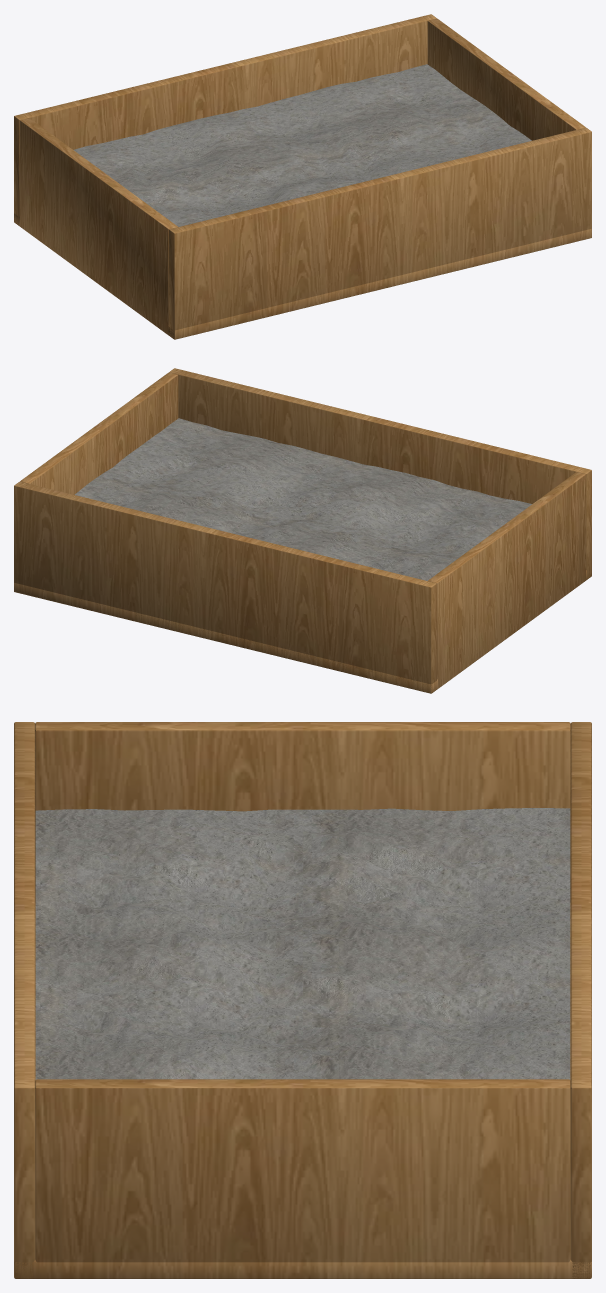
The model's file is REV-ARG-001.glb.
The picture shows the model from 3 angles, top to bottom: view 1: azimuth 30°, elevation 25°; view 2: azimuth 150°, elevation 25°; view 3: azimuth 270°, elevation 25°; orthographic projection. The views are drawn at different scales.
Visible parts, largest first — view 1: REV-ARG-001_lado-1, REV-ARG-001_argamassa, REV-ARG-001_lado1, REV-ARG-001_cab-1, REV-ARG-001_cab1, REV-ARG-001_fundo; view 2: REV-ARG-001_lado1, REV-ARG-001_argamassa, REV-ARG-001_lado-1, REV-ARG-001_cab-1, REV-ARG-001_cab1, REV-ARG-001_fundo; view 3: REV-ARG-001_argamassa, REV-ARG-001_cab1, REV-ARG-001_cab-1, REV-ARG-001_lado-1, REV-ARG-001_lado1, REV-ARG-001_fundo.
Boxes of the visible parts, x1,y1,x2,y2 form: REV-ARG-001_lado-1: (169, 127, 591, 339); REV-ARG-001_argamassa: (74, 64, 531, 226); REV-ARG-001_lado1: (14, 14, 436, 225); REV-ARG-001_cab-1: (20, 118, 177, 334); REV-ARG-001_cab1: (427, 18, 585, 140); REV-ARG-001_fundo: (14, 213, 591, 339); REV-ARG-001_lado1: (14, 481, 436, 690); REV-ARG-001_argamassa: (75, 418, 531, 580); REV-ARG-001_lado-1: (169, 368, 591, 579); REV-ARG-001_cab-1: (428, 472, 585, 688); REV-ARG-001_cab1: (20, 372, 178, 494); REV-ARG-001_fundo: (14, 570, 586, 693); REV-ARG-001_argamassa: (35, 808, 570, 1079); REV-ARG-001_cab1: (35, 1079, 570, 1278); REV-ARG-001_cab-1: (35, 722, 570, 902); REV-ARG-001_lado-1: (14, 722, 35, 1278); REV-ARG-001_lado1: (570, 722, 591, 1278); REV-ARG-001_fundo: (14, 903, 591, 1278).
Bounding box in the file's own units: 0.9 × 0.22 × 0.6.
Materials: 2 (2 with a texture image).
